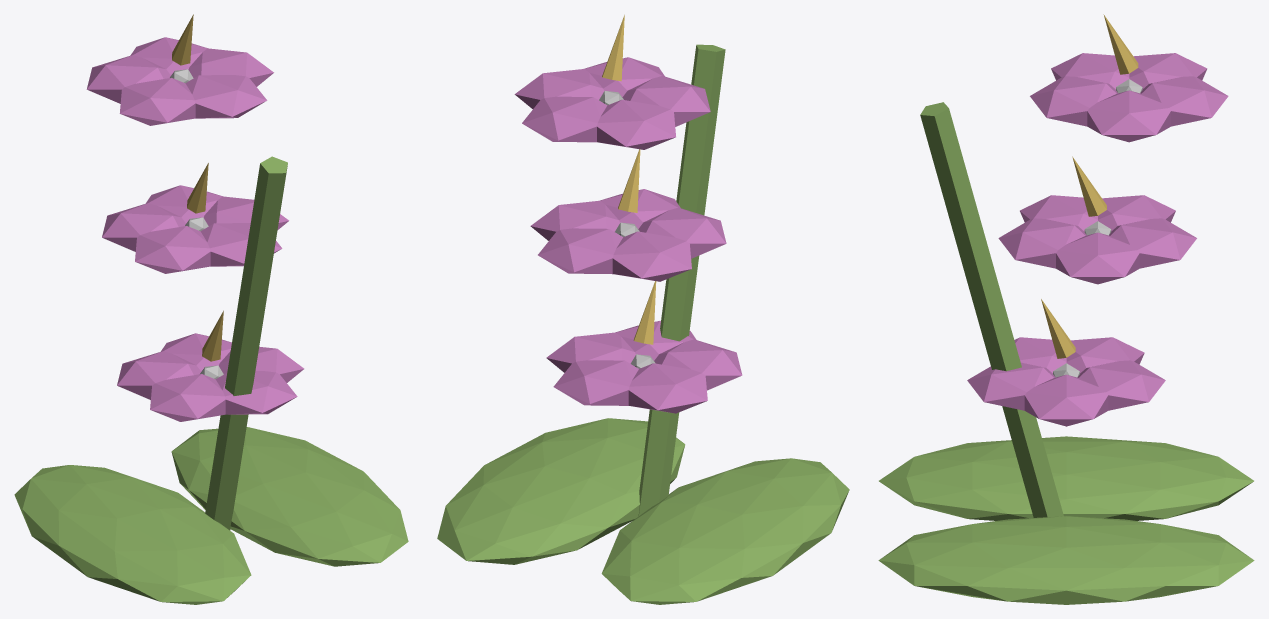
Rendered from goodyera-foliosa.glb.
3 views of the same model, side by side, from view 1: azimuth 30°, elevation 25°; view 2: azimuth 150°, elevation 25°; view 3: azimuth 270°, elevation 25° (orthographic). The views are drawn at different scales.
Parts seen in each view (by area): view 1: leaf-1, leaf1, stem, petal2 (×3), petal1 (×3), petal3 (×3), petal0 (×3), petal4 (×3), pistil (×3); view 2: leaf-1, leaf1, petal3 (×3), stem, petal4 (×3), petal2 (×3), petal0 (×3), petal1 (×3), pistil (×3); view 3: leaf1, leaf-1, stem, petal0 (×3), petal4 (×3), petal1 (×3), petal3 (×3), petal2 (×3), pistil (×3).
Boxes of the visible parts, bbox=[...] form: leaf-1: bbox=[14, 465, 251, 604]; leaf1: bbox=[171, 427, 408, 566]; stem: bbox=[205, 156, 287, 530]; petal2 (×3): bbox=[119, 78, 225, 421]; petal1 (×3): bbox=[185, 75, 297, 414]; petal3 (×3): bbox=[86, 55, 200, 399]; petal0 (×3): bbox=[188, 48, 304, 382]; petal4 (×3): bbox=[130, 37, 231, 371]; pistil (×3): bbox=[172, 14, 223, 361]; leaf-1: bbox=[601, 458, 849, 604]; leaf1: bbox=[437, 418, 685, 564]; petal3 (×3): bbox=[597, 99, 707, 413]; stem: bbox=[638, 44, 725, 515]; petal4 (×3): bbox=[522, 96, 638, 405]; petal2 (×3): bbox=[622, 76, 742, 390]; petal0 (×3): bbox=[514, 69, 635, 372]; petal1 (×3): bbox=[584, 57, 696, 360]; pistil (×3): bbox=[602, 15, 656, 344]; leaf1: bbox=[878, 516, 1254, 604]; leaf-1: bbox=[879, 436, 1253, 520]; stem: bbox=[920, 102, 1063, 517]; petal0 (×3): bbox=[1024, 90, 1170, 426]; petal4 (×3): bbox=[1077, 76, 1228, 410]; petal1 (×3): bbox=[967, 76, 1117, 410]; petal3 (×3): bbox=[1066, 53, 1207, 373]; petal2 (×3): bbox=[1014, 53, 1129, 373]; pistil (×3): bbox=[1041, 14, 1138, 358].
Size of the model in its own units: 0.2327 by 0.399 by 0.24.
